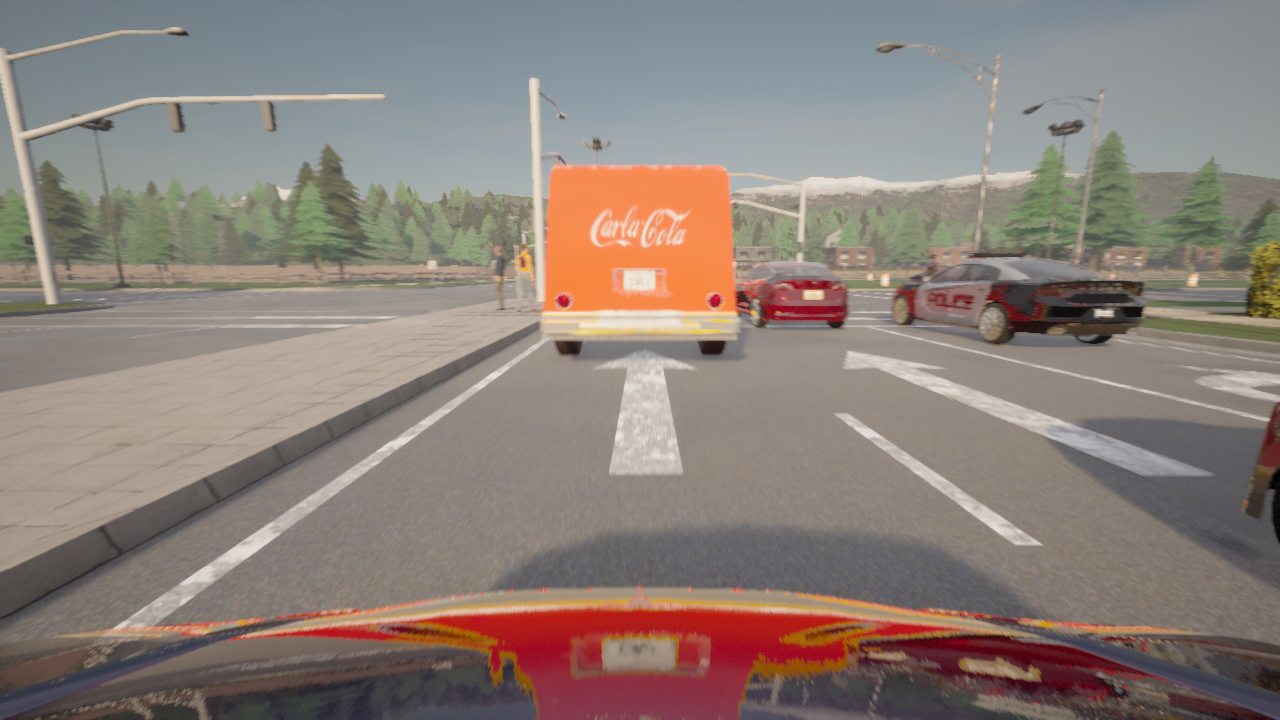cyclist: (0, 588, 1279, 719), (541, 165, 740, 354), (892, 251, 1145, 343), (734, 262, 848, 327), (1243, 400, 1279, 545), (908, 267, 946, 282)
pedestrian: (516, 243, 538, 312), (494, 246, 505, 310), (925, 253, 939, 277)
